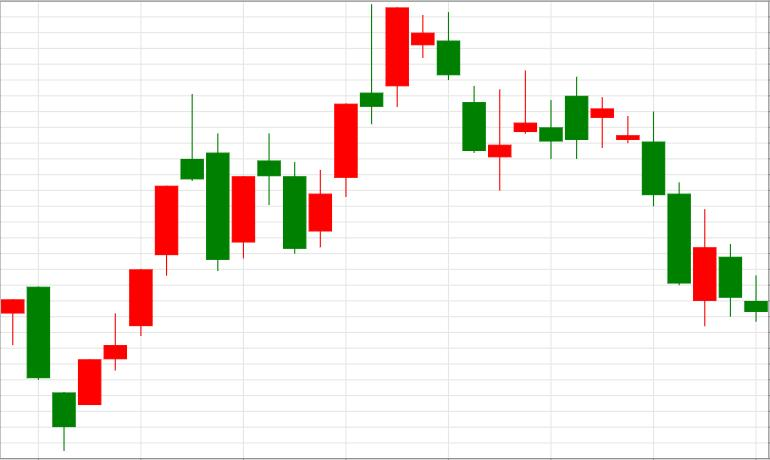shooting_star_fall: (78, 94, 204, 405)
